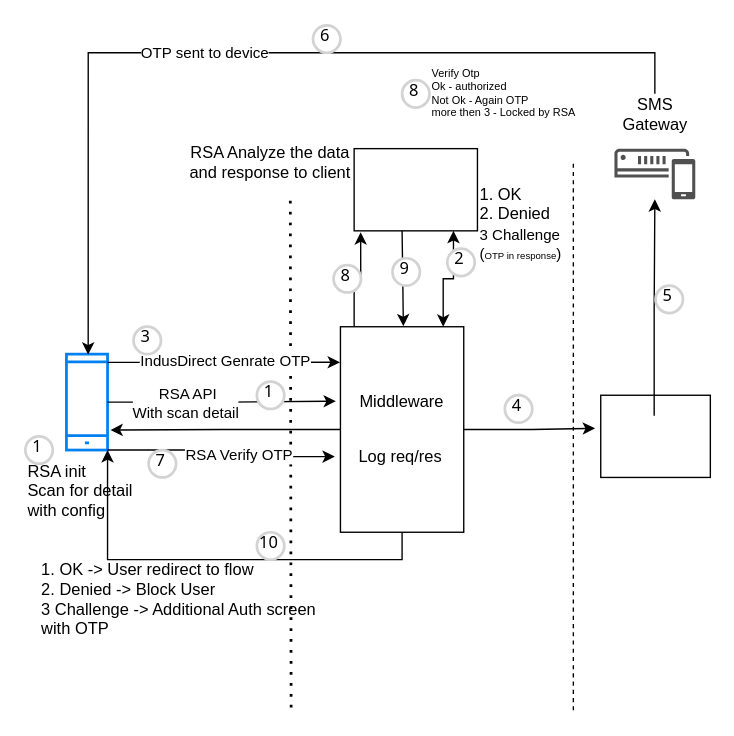
This 734x736 diagram has some shape labels left out. Here are the shapes that lost their labels. From the top down, the centre of each, then its label:
At point (415, 189): "RSA".
At point (654, 435): "IndusDirect".
